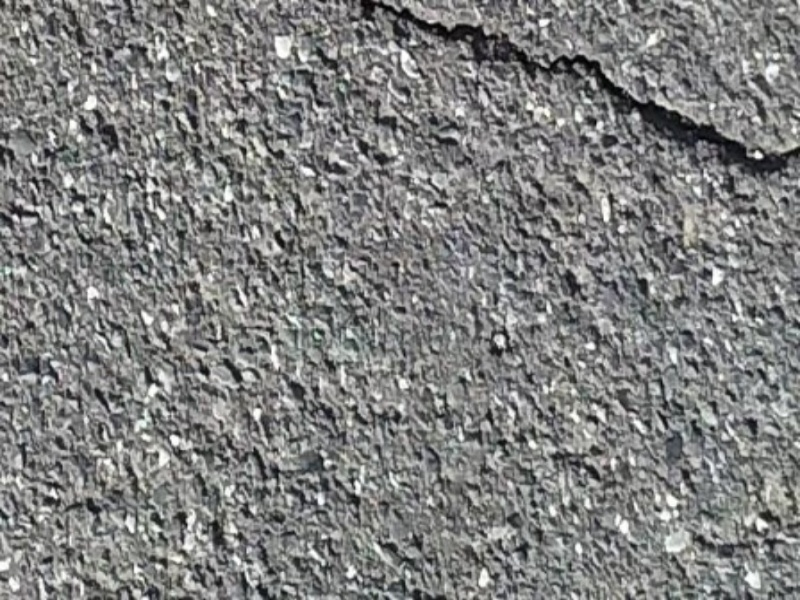crack: (388, 12, 790, 175)
